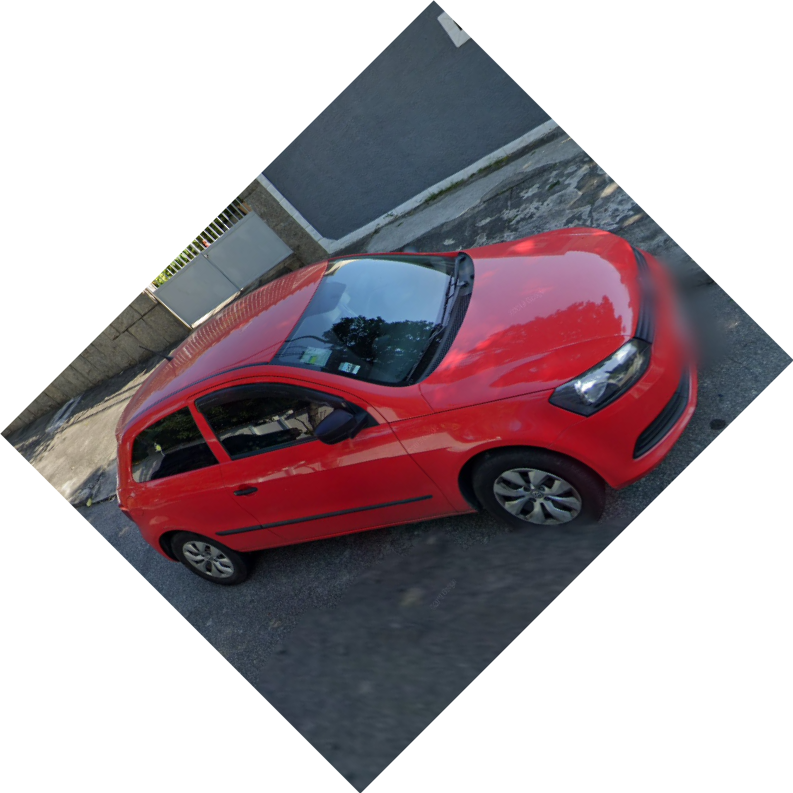car: (115, 225, 700, 585)
